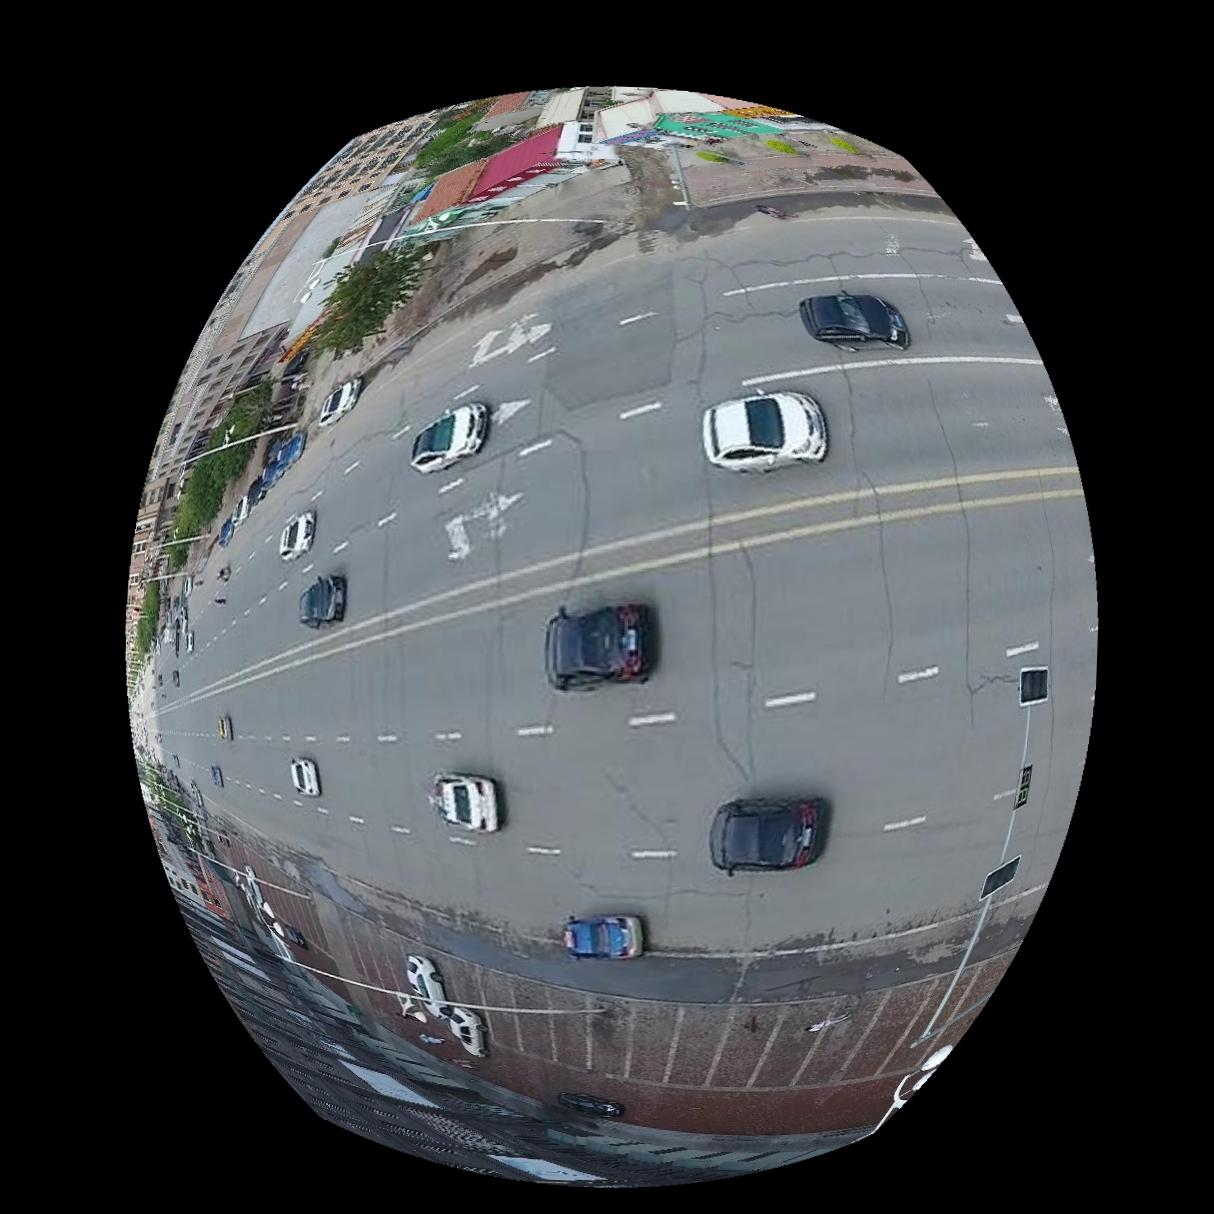building: (193, 915, 870, 1188), (280, 83, 807, 222)
cars: (704, 391, 827, 470), (710, 797, 825, 876), (545, 603, 649, 690), (800, 289, 910, 348), (410, 400, 487, 472), (428, 772, 500, 833), (563, 915, 644, 960), (405, 955, 450, 1021), (299, 575, 344, 628), (317, 376, 361, 425), (449, 1007, 488, 1059), (558, 1093, 624, 1121), (278, 509, 314, 558), (288, 758, 320, 797)
trees: (313, 242, 428, 349), (189, 378, 288, 499), (163, 471, 225, 570), (135, 581, 159, 659)
